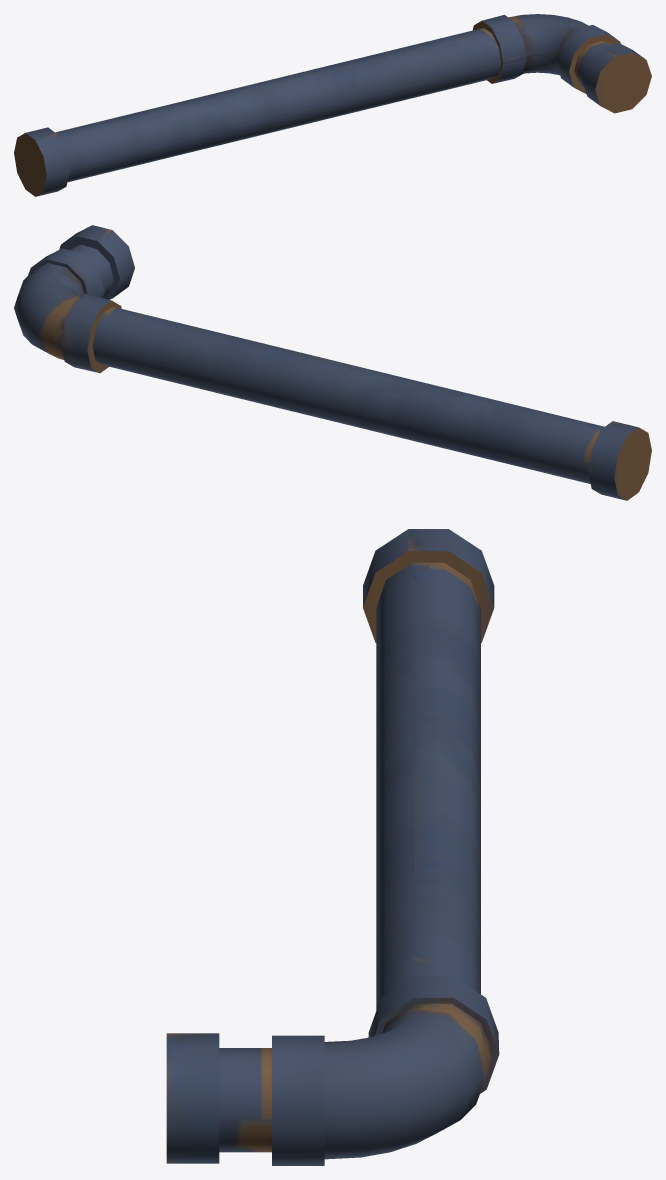
3 renders of one model, top to bottom at view 1: azimuth 30°, elevation 25°; view 2: azimuth 150°, elevation 25°; view 3: azimuth 270°, elevation 25°, orthographic. The views are drawn at different scales.
Parts seen in each view (by area): view 1: body0_model0_lod0_mesh0; view 2: body0_model0_lod0_mesh0; view 3: body0_model0_lod0_mesh0.
Boxes of the visible parts, <box> form: body0_model0_lod0_mesh0: <box>14,14,651,196</box>; body0_model0_lod0_mesh0: <box>14,225,651,500</box>; body0_model0_lod0_mesh0: <box>166,529,499,1165</box>.
Size of the model in its own units: 97.72 by 9.69 by 25.3.
1 material, 1 textured.
